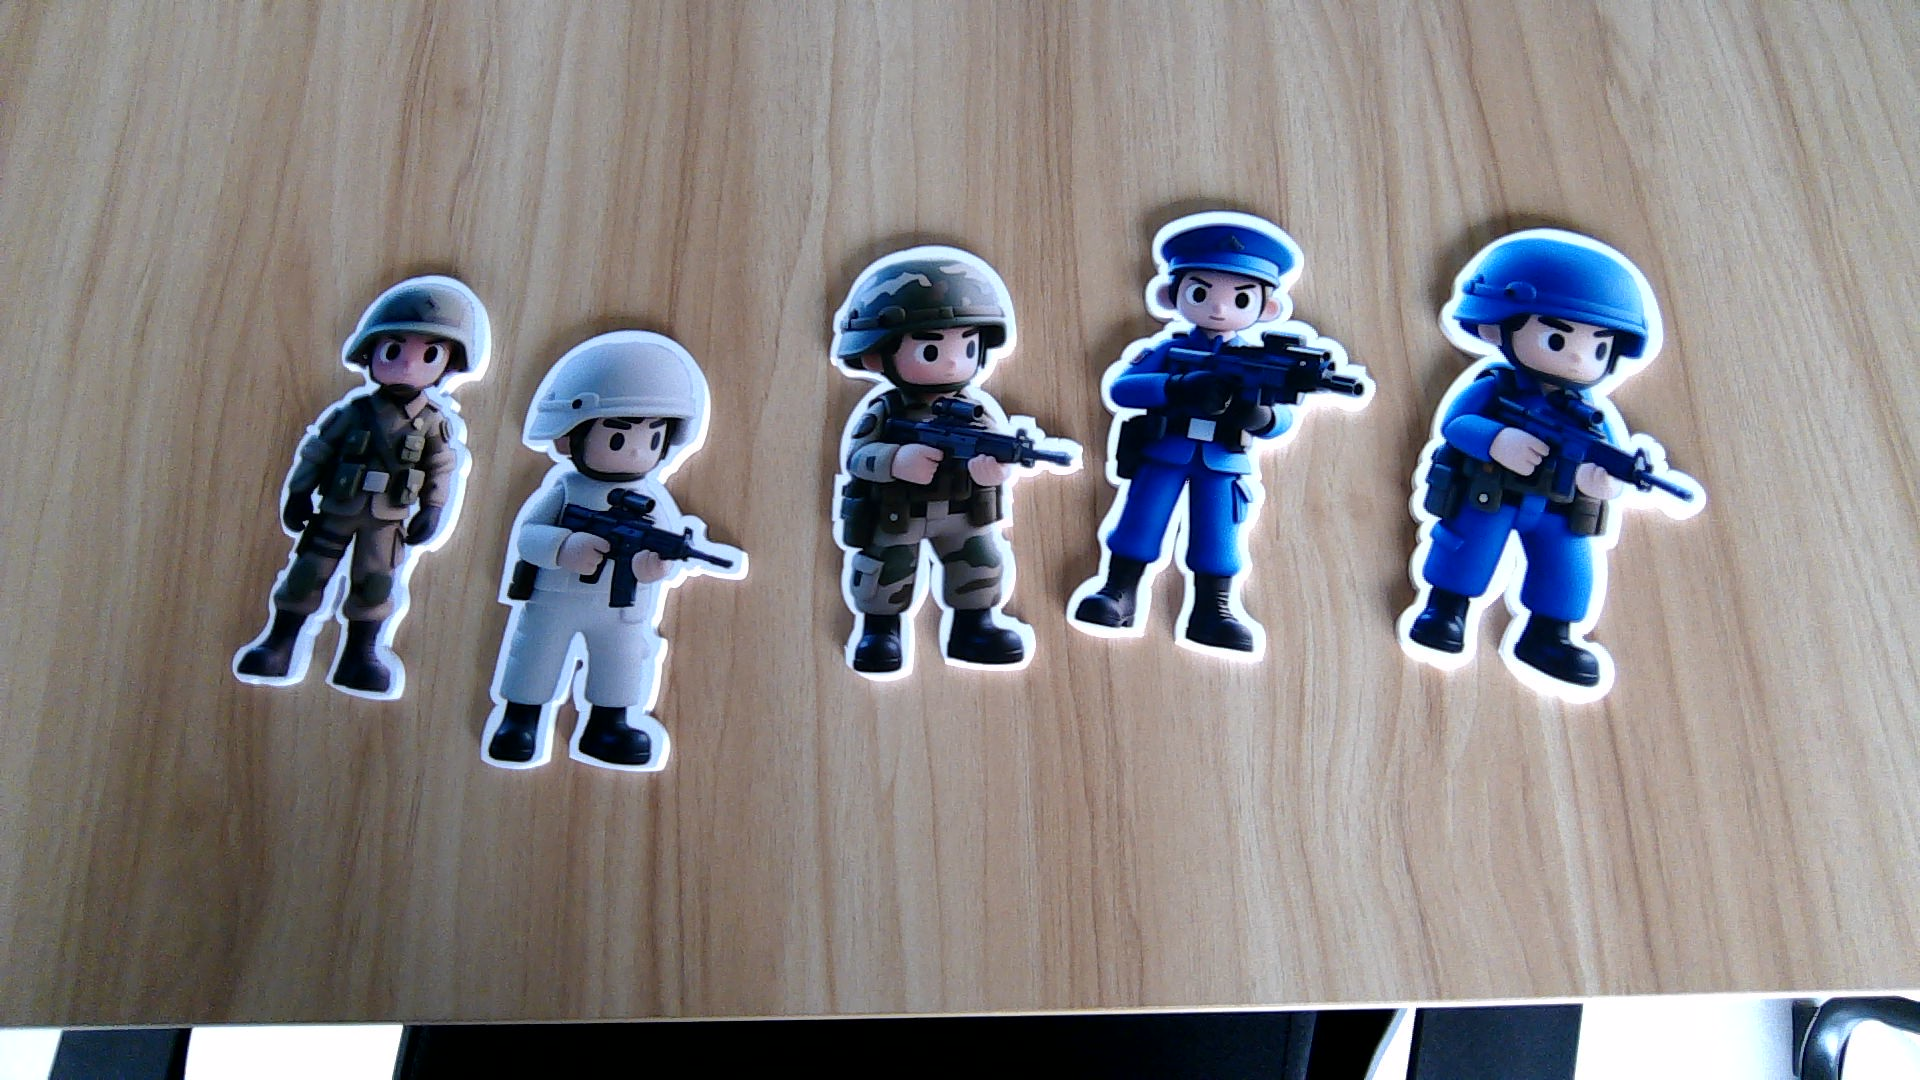人质: (483, 480, 746, 774)
友军: (229, 396, 473, 699), (822, 393, 1067, 680)
敌人2: (1394, 384, 1712, 702), (1069, 330, 1361, 666)
